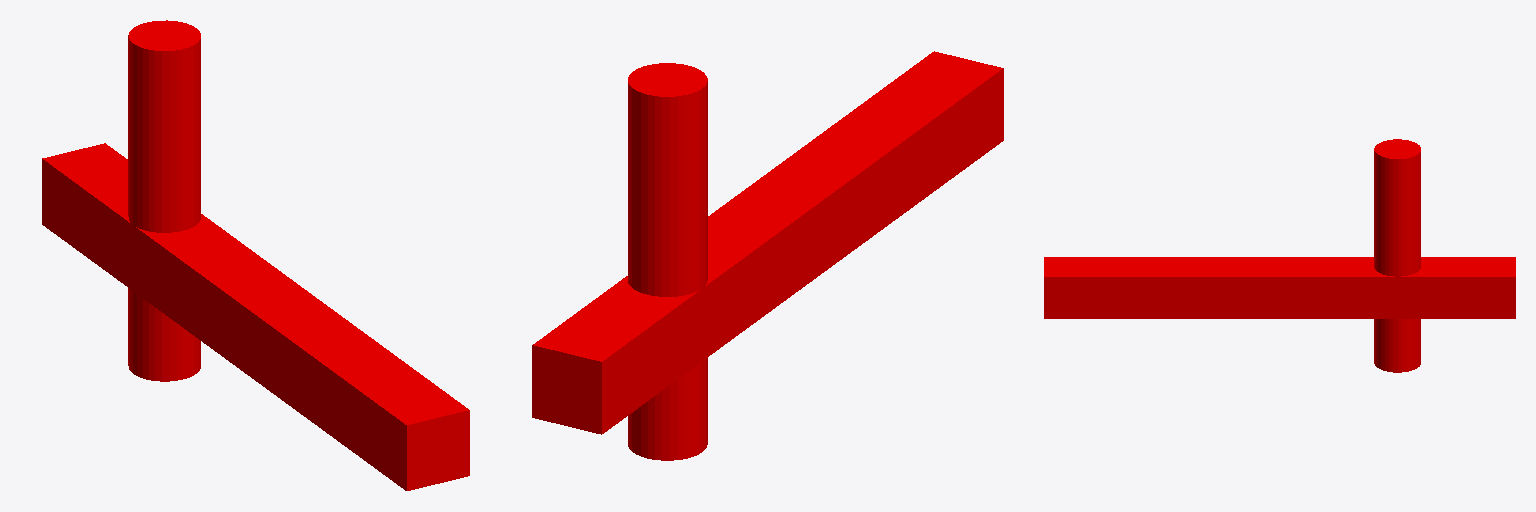
URDF robot description (barrier):
<?xml version="1.0"?>
<robot name="barrier">


    <!-- El siguiente link suelo, lo he usado para modelar el urdf con la 
    extension de urdf visualizer de vscode. Lo dejo comentado porque de lo
    contrario, daría error (no pertenece a un joint habiendo 3 links y 2 joints)
    pero no lo elimino porque podría ser útil de cara a modificar la rampa
    en posibles escenarios futuros -->
    <!-- <link name="suelo">

        <inertial>
            <origin xyz="0 0 -0.5"/>
            <mass value="1.0"/>
            <inertia ixx="1.0" ixy="0.0" ixz="0.0"
                iyy="1.0" iyz="0.0" izz="1.0"/>
        </inertial>

        <visual>
            <origin xyz="0 0 -0.5"/>
            <geometry>
                <box size="2 2 0"/>
            </geometry>
            <material name="blue">
                <color rgba="0 0 0.8 1"/>
            </material>
        </visual>

        <collision>
            <origin xyz="0 0 -0.5"/>
            <geometry>
                <box size="2 5 0"/>
            </geometry>
        </collision>

    </link> -->

    <link name="cylinder_link">

        <inertial>
            <origin xyz="0 0 0"/>
            <mass value="100.0"/>
            <inertia ixx="0.00001" ixy="0.0" ixz="0.0"
                iyy="0.00001" iyz="0.0" izz="0.00001"/>
        </inertial>

        <visual>
            <origin xyz="0 0 0"/>
            <geometry>
                <cylinder radius="0.1" length="1.0"/>
            </geometry>

            <material name="red">
                <color rgba="1 0 0 1"/>
            </material>
        </visual>

        <collision>
            <origin xyz="0 0 0"/>
            <geometry>
                <cylinder radius="0.1" length="1.0"/>
            </geometry>
        </collision>

    </link>


    <link name="horizontal_link">

        <inertial>
            <origin xyz="0 0 0"/>
            <mass value="5.0"/>
            <inertia ixx="1.3" ixy="0.0" ixz="0.0"
                iyy="3" iyz="0.0" izz="1.7"/>
        </inertial>

        <visual>
            <origin xyz="0 0 0"/>
            <geometry>
                <box size="0.2 2 0.2"/>
            </geometry>

            <material name="red">
                <color rgba="1 0 0 1"/>
            </material>
        </visual>

        <collision>
            <origin xyz="0 0 0"/>
            <geometry>
                <box size="0.2 2 0.2"/>
            </geometry>
        </collision>

    </link>

    <joint name="clylinder_to_horizontal" type="revolute">
        <parent link="cylinder_link"/>
        <child link="horizontal_link"/>
        <dynamics damping="0.1" friction="0.0001"/>
        <limit lower="-1.57" upper="1.57"/>

        <origin xyz="0 -0.5 -0.15"/>
        <axis xyz="0 1 0"/>
        
    </joint>

</robot>

--- Render facts (derived) ---
The picture shows the robot from 3 angles, left to right: view 1: azimuth 30°, elevation 25°; view 2: azimuth 150°, elevation 25°; view 3: azimuth 270°, elevation 25°; orthographic projection.
Model barrier with 2 links and 1 joints (1 revolute), rooted at cylinder_link, posed all joints at 0.
Links seen in each view (by area): view 1: horizontal_link, cylinder_link; view 2: horizontal_link, cylinder_link; view 3: horizontal_link, cylinder_link.
Boxes of the visible links, x1=… form: horizontal_link: x1=42, y1=143, x2=469, y2=490; cylinder_link: x1=128, y1=20, x2=200, y2=381; horizontal_link: x1=532, y1=51, x2=1003, y2=434; cylinder_link: x1=628, y1=63, x2=707, y2=460; horizontal_link: x1=1044, y1=257, x2=1515, y2=318; cylinder_link: x1=1374, y1=139, x2=1420, y2=372.
Bounding box of the posed robot: 0.2 × 2 × 1 m (x, y, z).
Geometry: primitives only (box / cylinder / sphere), no mesh files.